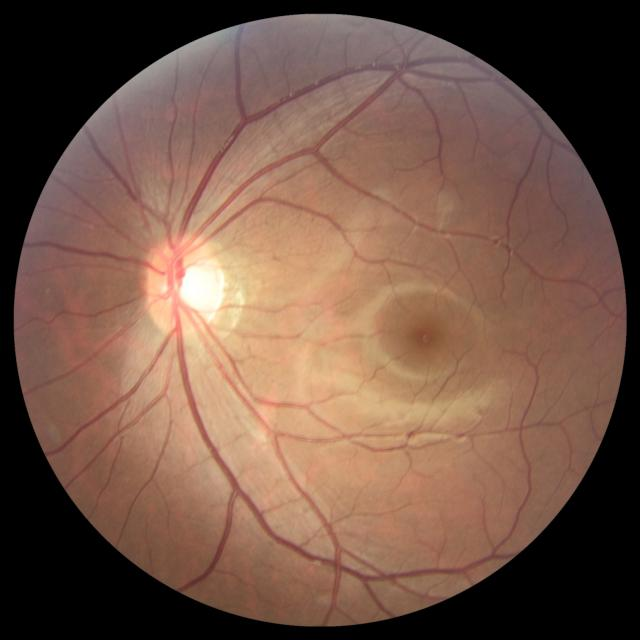OC: (170, 262, 218, 312)
OD: (142, 233, 224, 342)
